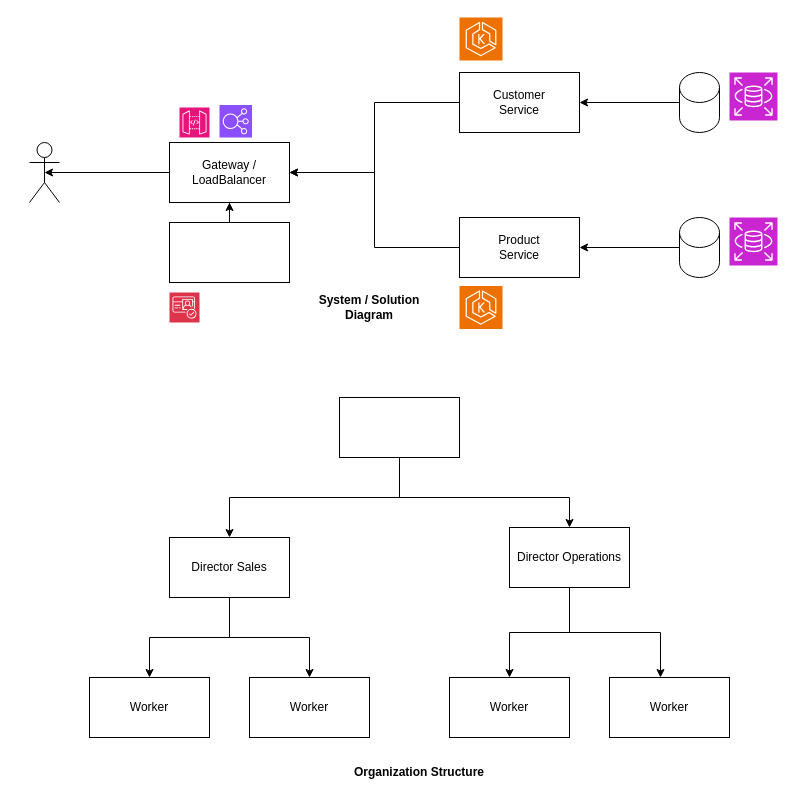
This 795x805 diagram has some shape labels left out. Here are the shapes that lost their labels. From the top down, the box of each, then its label:
(28, 142, 60, 202): End Client
(168, 222, 290, 282): Oath2
(338, 396, 460, 458): MD/CEO
